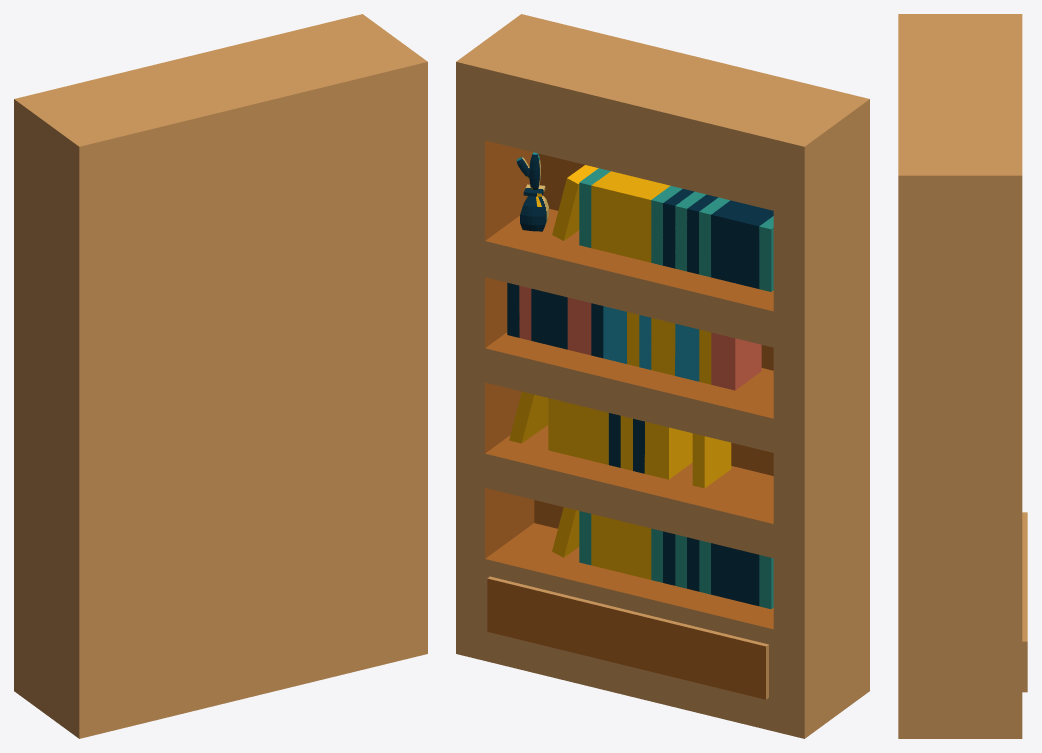
File: ESTANTERIA-PEQUEÑA.glb
3 renders of one model, left to right at view 1: azimuth 30°, elevation 25°; view 2: azimuth 150°, elevation 25°; view 3: azimuth 270°, elevation 25°, orthographic. The views are drawn at different scales.
Parts seen in each view (by area): view 1: ESTANTERIA-PEQUEÑA; view 2: ESTANTERIA-PEQUEÑA; view 3: ESTANTERIA-PEQUEÑA.
Boxes of the visible parts, x1=… form: ESTANTERIA-PEQUEÑA: x1=14, y1=14, x2=427, y2=738; ESTANTERIA-PEQUEÑA: x1=456, y1=14, x2=869, y2=738; ESTANTERIA-PEQUEÑA: x1=898, y1=14, x2=1027, y2=738.
Bounding box in the file's own units: 2.87 × 4.66 × 0.9724.
1 material, 1 textured.
